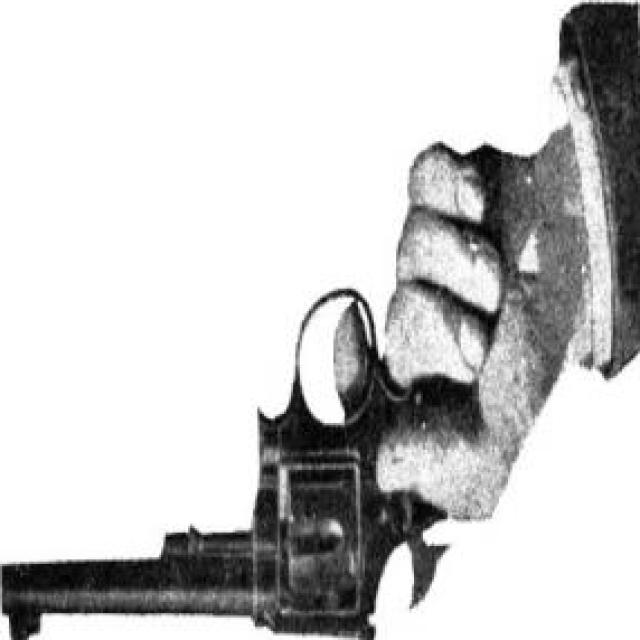pistol: (2, 132, 510, 640)
